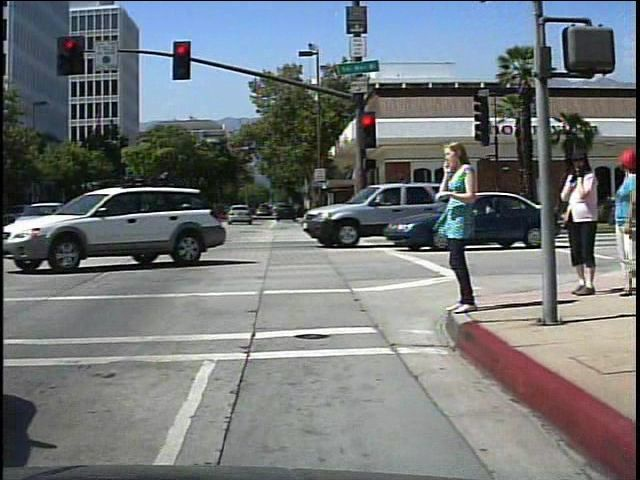person: (434, 133, 488, 316), (556, 146, 603, 301), (604, 146, 638, 301)
